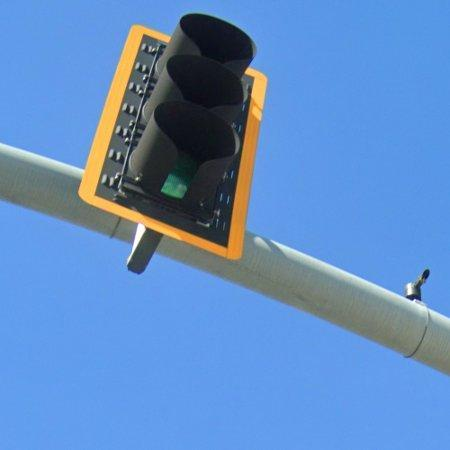traffic lights: (79, 13, 268, 262)
